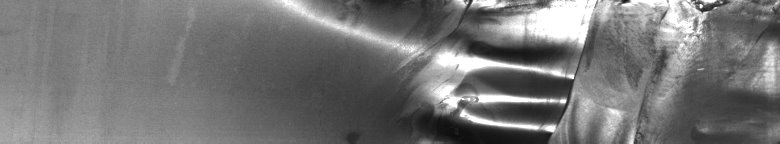ke: (333, 4, 776, 136)
